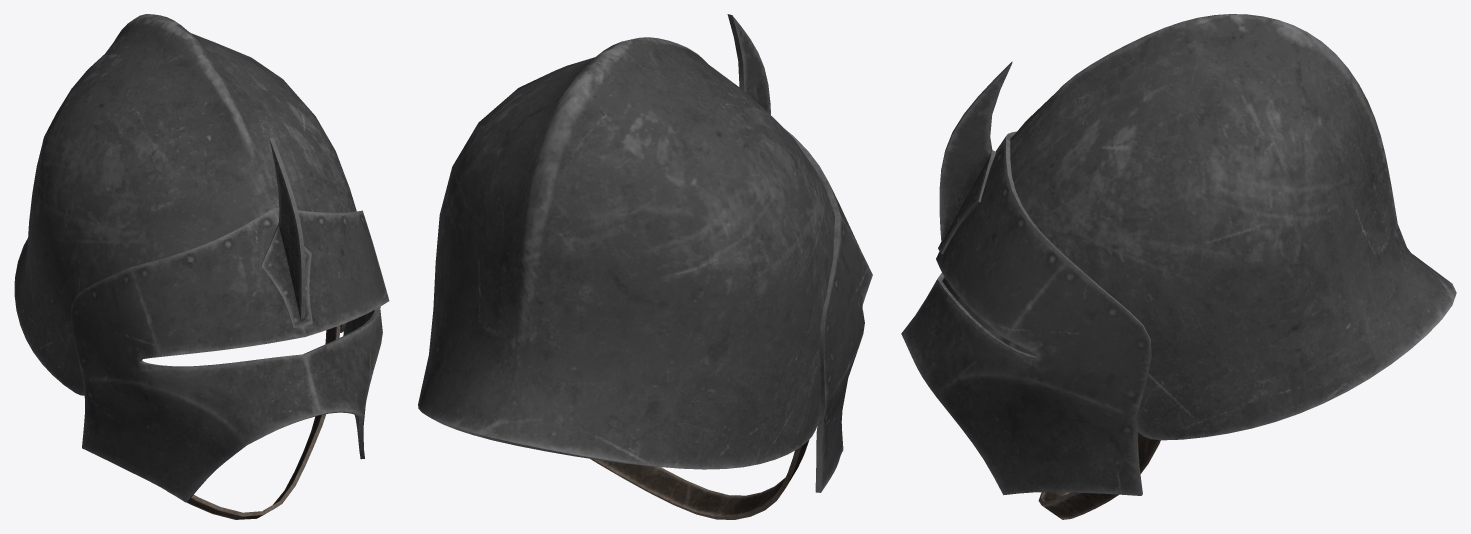
The model's file is sk_uruk_hai_helmet_spear_light_a4.fbx.
3 views of the same model, side by side, from view 1: azimuth 30°, elevation 25°; view 2: azimuth 150°, elevation 25°; view 3: azimuth 270°, elevation 25° (orthographic). The views are drawn at different scales.
Parts seen in each view (by area): view 1: sk_uruk_hai_helmet_spear_light_a4.1, sk_uruk_hai_helmet_spear_light_a4.0; view 2: sk_uruk_hai_helmet_spear_light_a4.1, sk_uruk_hai_helmet_spear_light_a4.0; view 3: sk_uruk_hai_helmet_spear_light_a4.1, sk_uruk_hai_helmet_spear_light_a4.0.
Boxes of the visible parts, left/top/right/bottom form: sk_uruk_hai_helmet_spear_light_a4.1: left=14, top=14, right=389, bottom=502; sk_uruk_hai_helmet_spear_light_a4.0: left=167, top=325, right=340, bottom=519; sk_uruk_hai_helmet_spear_light_a4.1: left=418, top=14, right=872, bottom=492; sk_uruk_hai_helmet_spear_light_a4.0: left=590, top=440, right=809, bottom=519; sk_uruk_hai_helmet_spear_light_a4.1: left=901, top=14, right=1456, bottom=495; sk_uruk_hai_helmet_spear_light_a4.0: left=1038, top=431, right=1160, bottom=519.
Size of the model in its own units: 0.2081 by 0.3196 by 0.3151.
Materials: 2 (2 with a texture image).
